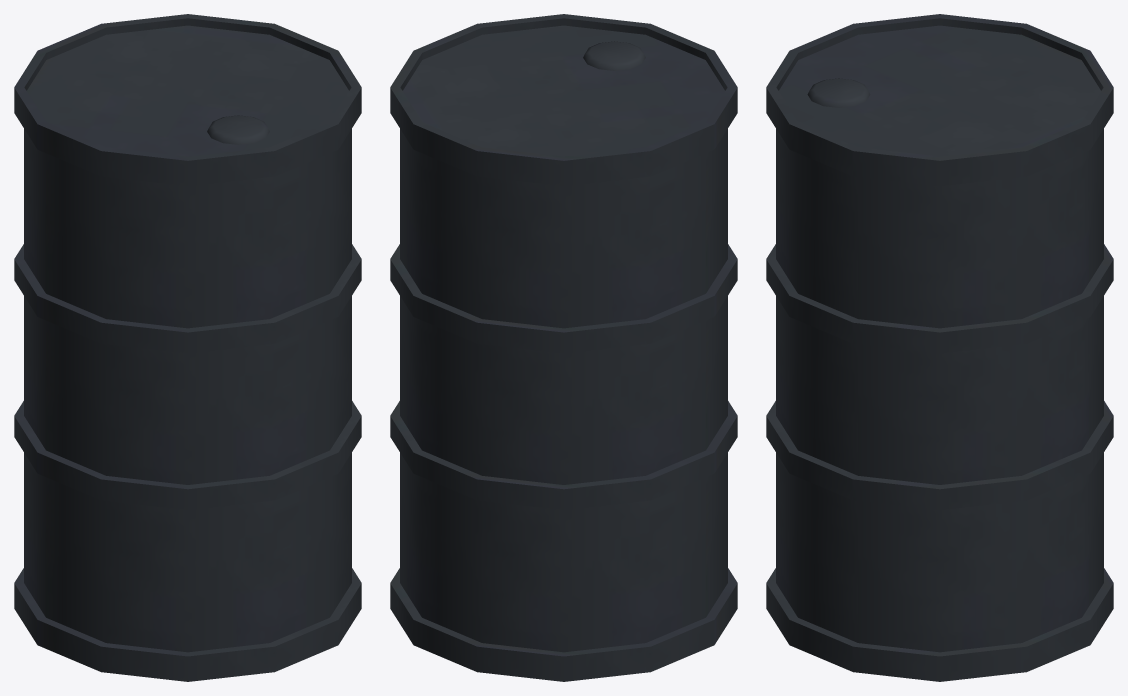
File: fut_metallique.glb
3 views of the same model, side by side, from view 1: azimuth 30°, elevation 25°; view 2: azimuth 150°, elevation 25°; view 3: azimuth 270°, elevation 25° (orthographic).
Parts seen in each view (by area): view 1: Metal_Barrel; view 2: Metal_Barrel; view 3: Metal_Barrel.
Boxes of the visible parts, x1,y1,x2,y2 form: Metal_Barrel: (14,14,361,681); Metal_Barrel: (390,14,737,681); Metal_Barrel: (766,14,1113,681).
Size of the model in its own units: 0.5441 by 0.9 by 0.5441.
Materials: 1 (1 with a texture image).
